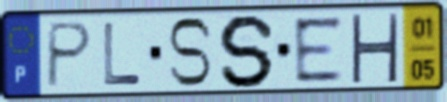E: (290, 14, 346, 86)
H: (348, 12, 401, 84)
L: (101, 20, 143, 87)
P: (43, 20, 96, 91)
S: (216, 12, 280, 90), (164, 15, 215, 90)
